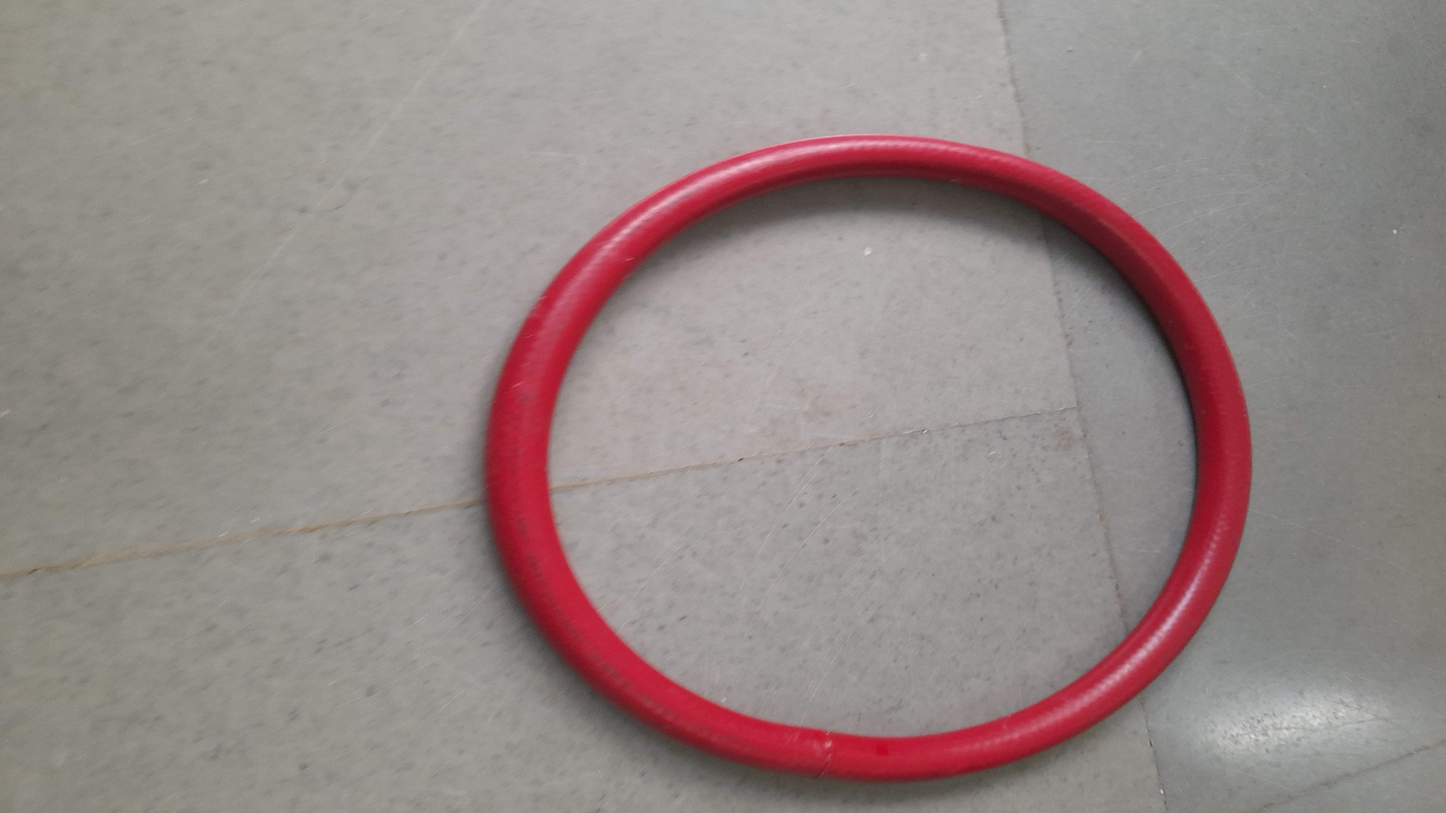Red ring: (484, 133, 1253, 776)
